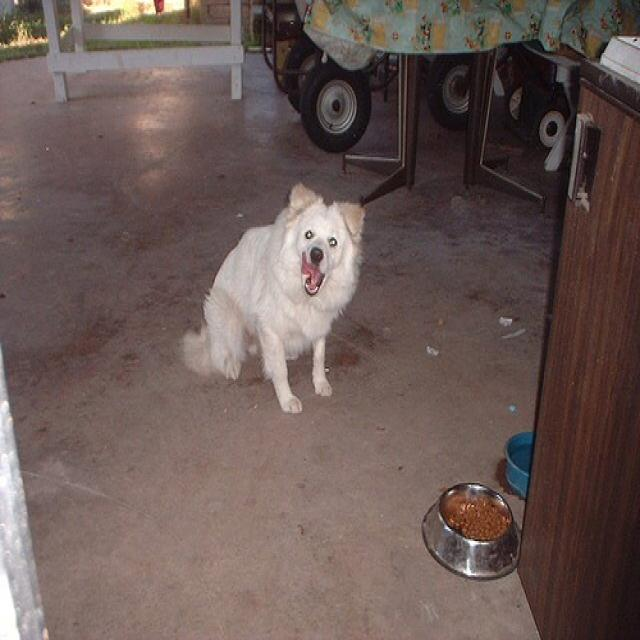dog: (187, 180, 367, 414)
